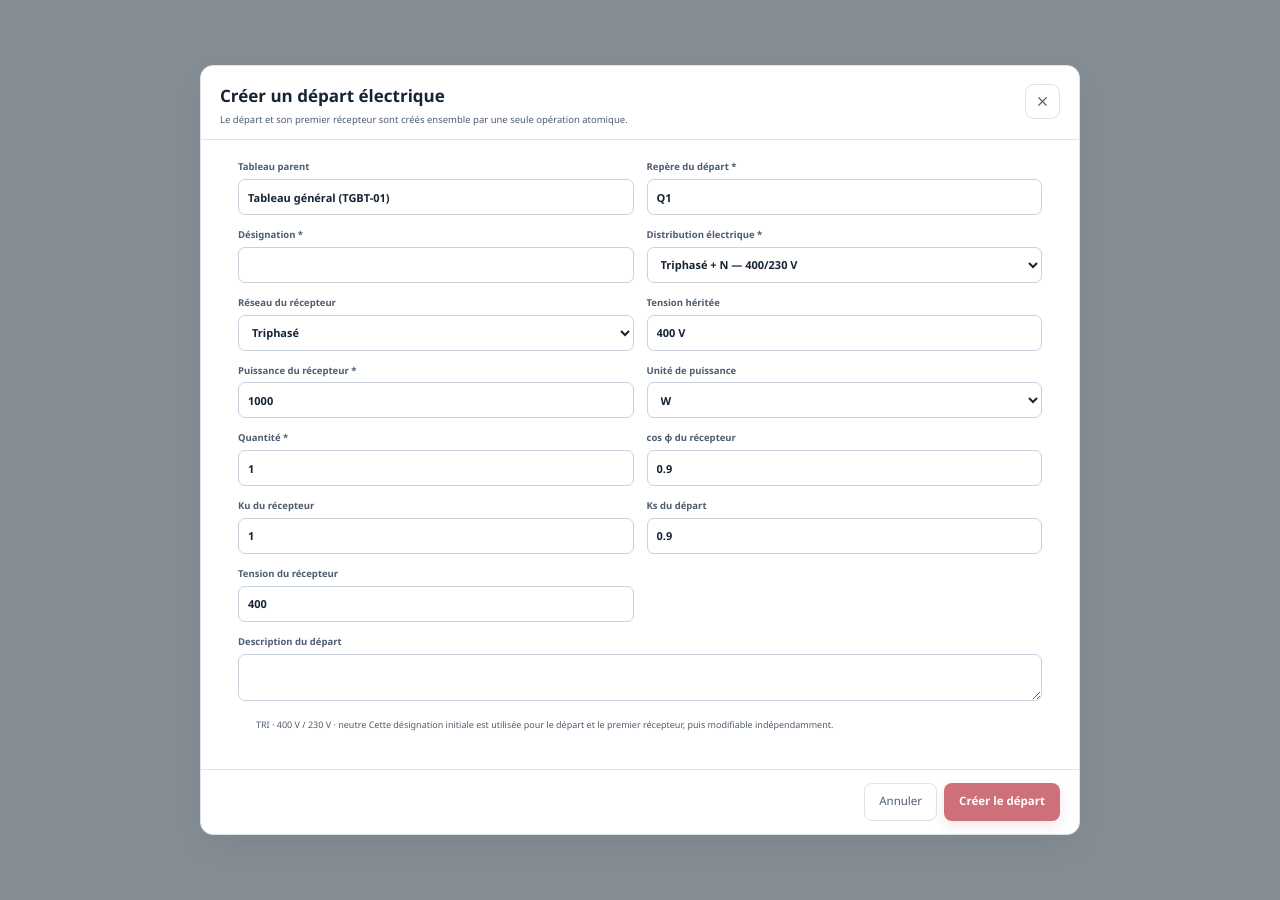
Test: FeederLoadDialog — formulaire unifié R4 › affiche une erreur de champ et conserve les valeurs invalides
In the field with test id "feeder-load-designation": (436, 265) [238,247,634,283], type "Éclairage"
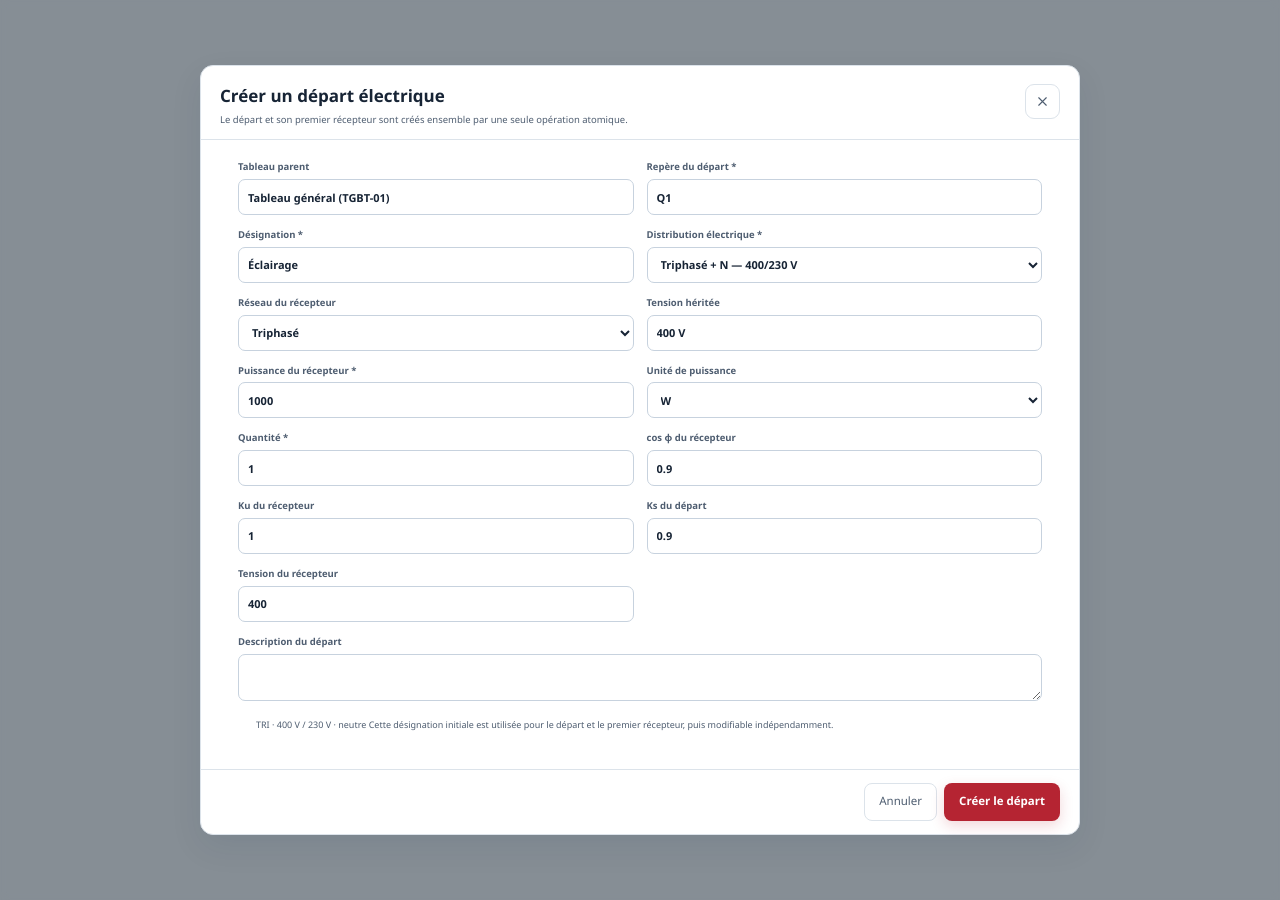
Replace the text in the field with test id "feeder-load-power" with "0": (436, 400) [238,382,634,418]
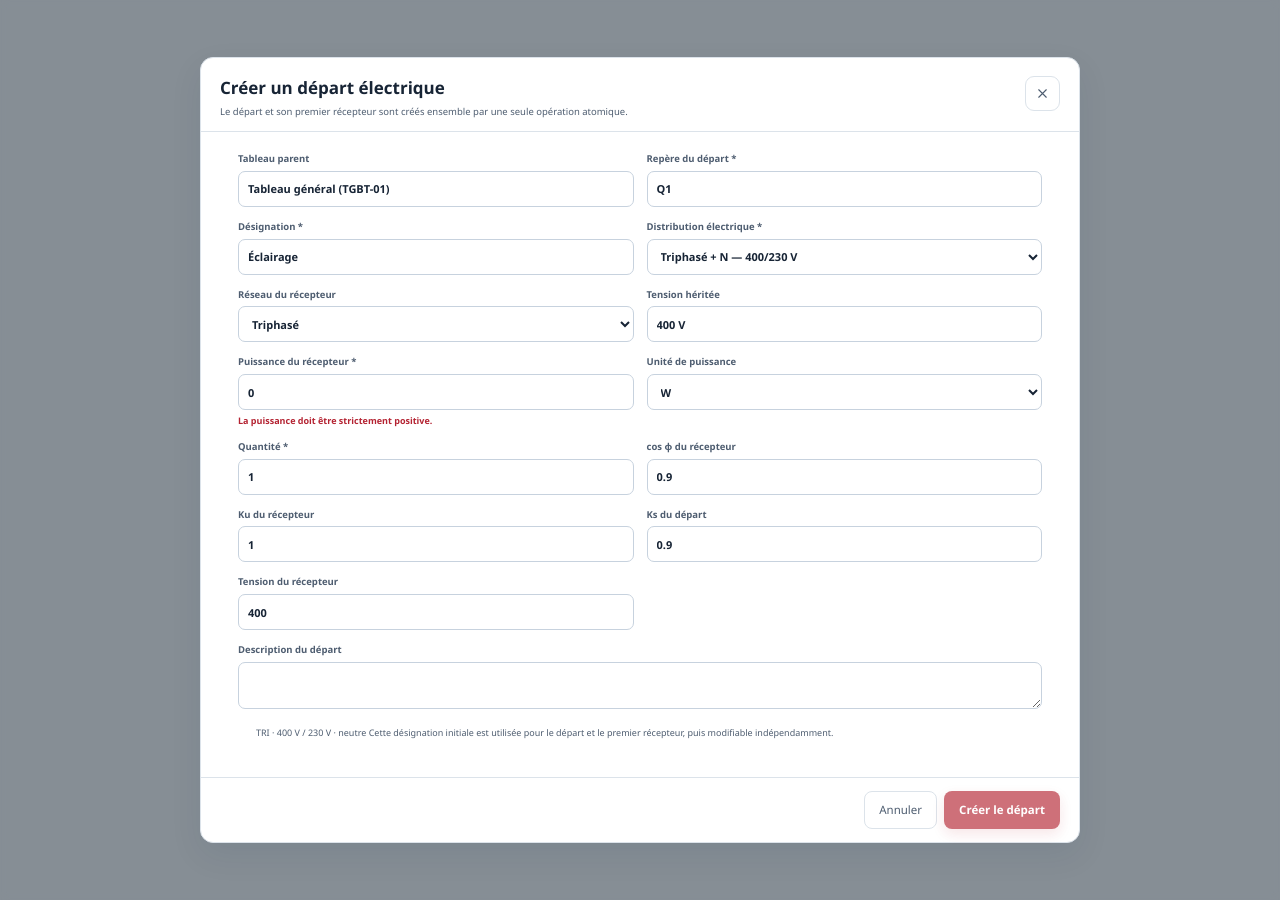
Result: the text "La puissance doit être strictement positive." is shown at [238,414,432,427]
Result: the button with test id "feeder-load-submit" is disabled at [944,791,1060,829]
